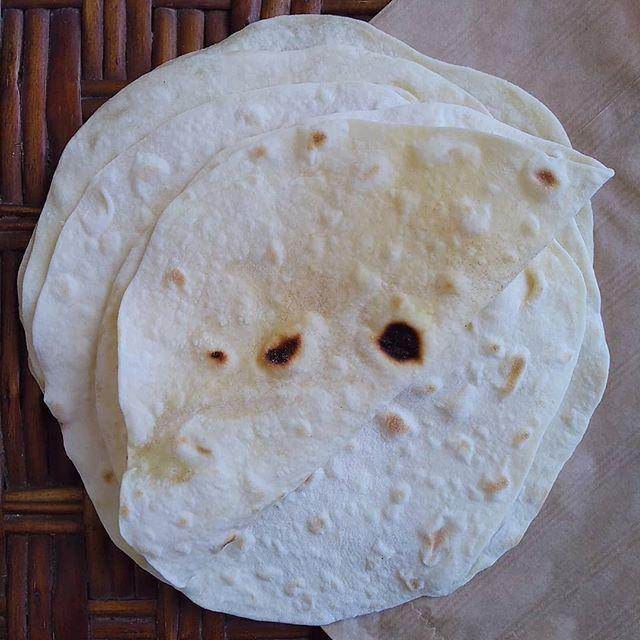Roti: (65, 26, 606, 605)
